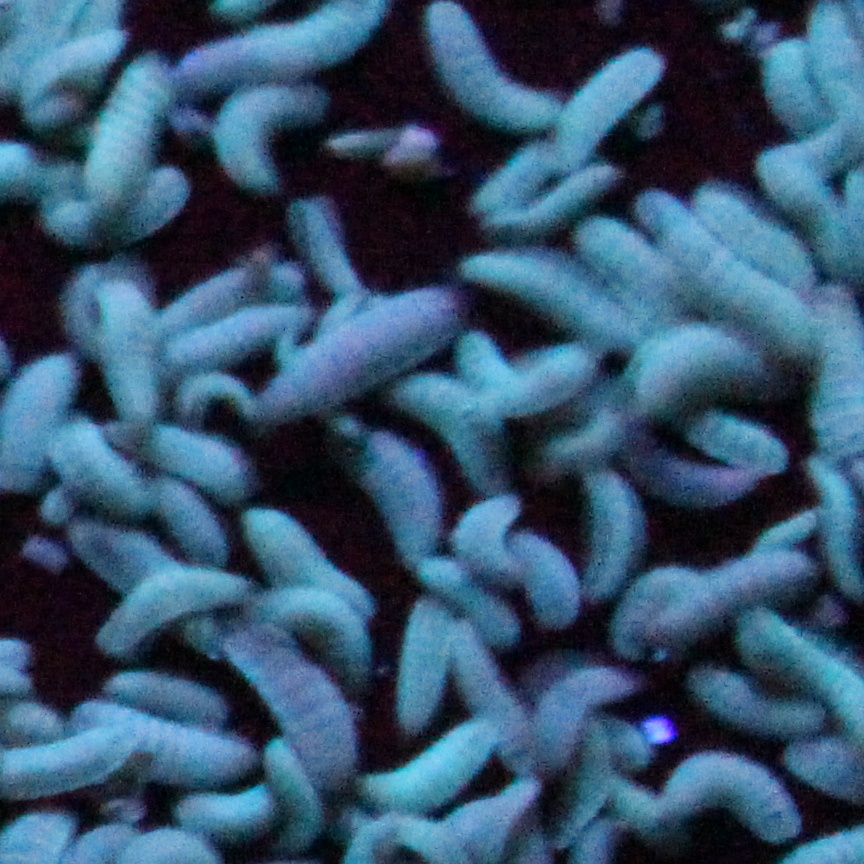larve: (260, 313, 457, 413), (472, 243, 638, 343), (207, 88, 328, 191), (83, 65, 175, 195), (542, 54, 668, 147), (664, 754, 794, 843), (205, 17, 377, 77), (349, 435, 435, 555), (394, 584, 457, 728), (109, 565, 242, 632), (819, 291, 859, 475), (101, 296, 157, 418), (649, 327, 729, 410), (668, 567, 748, 644), (588, 473, 637, 593), (799, 7, 862, 100), (102, 663, 215, 714), (249, 660, 332, 727), (356, 755, 484, 797), (4, 735, 122, 780), (251, 517, 344, 574), (455, 498, 521, 575), (295, 207, 358, 286), (161, 431, 251, 485), (47, 443, 128, 498), (284, 591, 362, 647), (184, 791, 272, 837), (675, 240, 737, 303), (778, 158, 831, 230), (704, 421, 794, 463), (488, 198, 581, 236), (768, 621, 817, 690), (705, 675, 764, 731), (504, 364, 592, 401), (542, 683, 584, 758), (174, 320, 251, 357), (654, 456, 709, 504), (164, 513, 225, 555), (828, 493, 856, 581), (719, 197, 765, 243), (568, 765, 607, 813)
